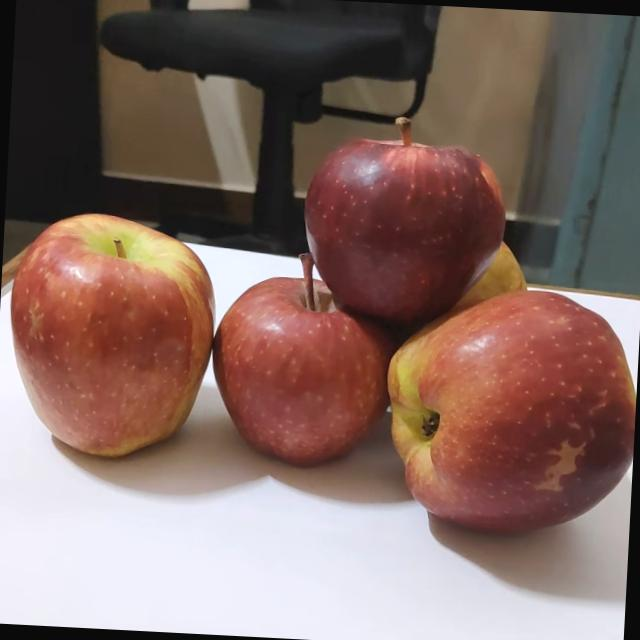apple: (377, 281, 640, 550), (8, 205, 228, 462), (300, 104, 520, 330), (210, 246, 408, 474), (438, 229, 542, 321)
